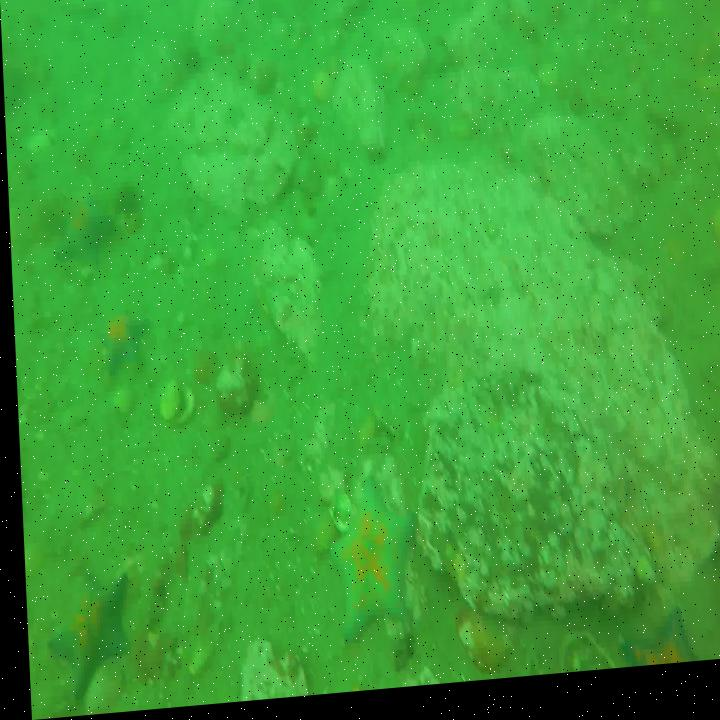scallop: (156, 372, 192, 433)
starfish: (326, 490, 417, 654), (40, 577, 127, 704), (48, 187, 116, 273), (614, 615, 695, 679), (91, 305, 149, 384), (222, 0, 260, 11)
